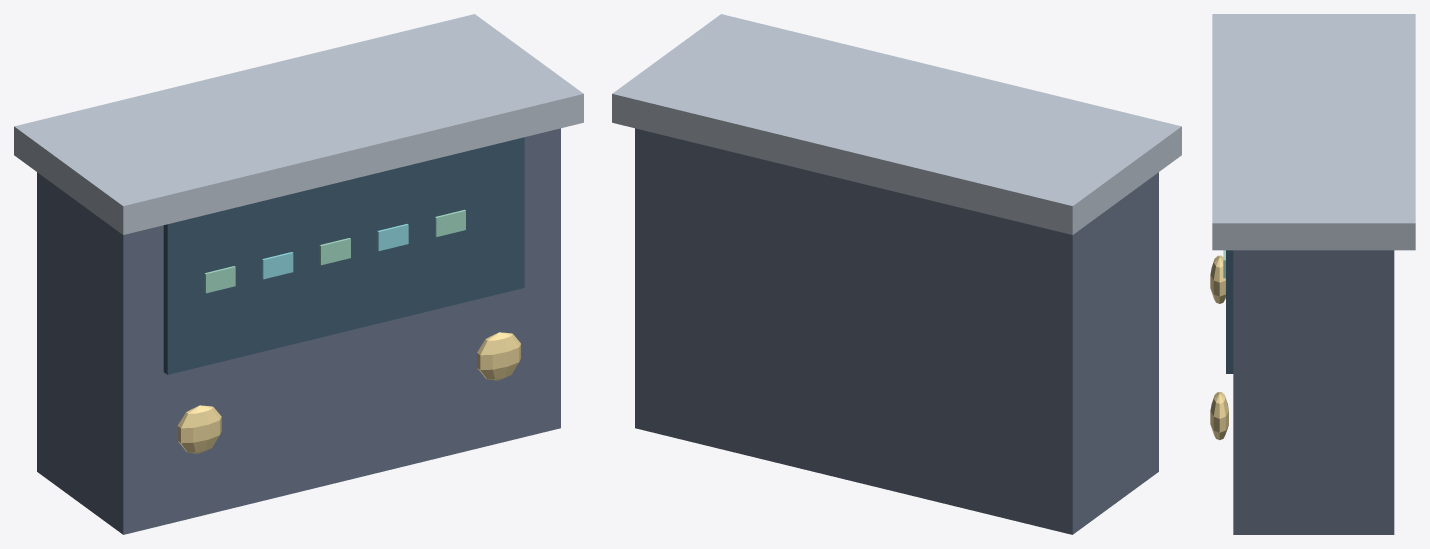
The model's file is consola_lateral.glb.
3 views of the same model, side by side, from view 1: azimuth 30°, elevation 25°; view 2: azimuth 150°, elevation 25°; view 3: azimuth 270°, elevation 25° (orthographic). The views are drawn at different scales.
Parts seen in each view (by area): view 1: consola_lateral; view 2: consola_lateral; view 3: consola_lateral.
Boxes of the visible parts, left/top/right/bottom form: consola_lateral: left=14, top=14, right=583, bottom=534; consola_lateral: left=612, top=14, right=1181, bottom=534; consola_lateral: left=1210, top=14, right=1415, bottom=534.
Size of the model in its own units: 2 by 1.41 by 0.8275.
